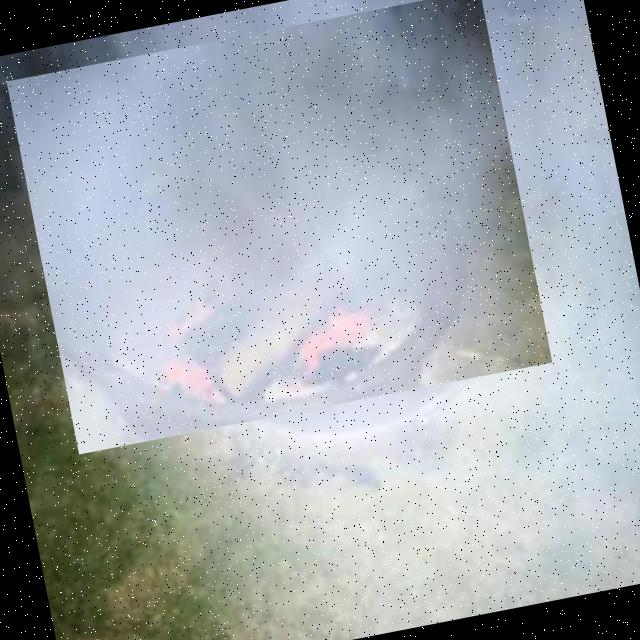fire: (6, 0, 552, 454)
